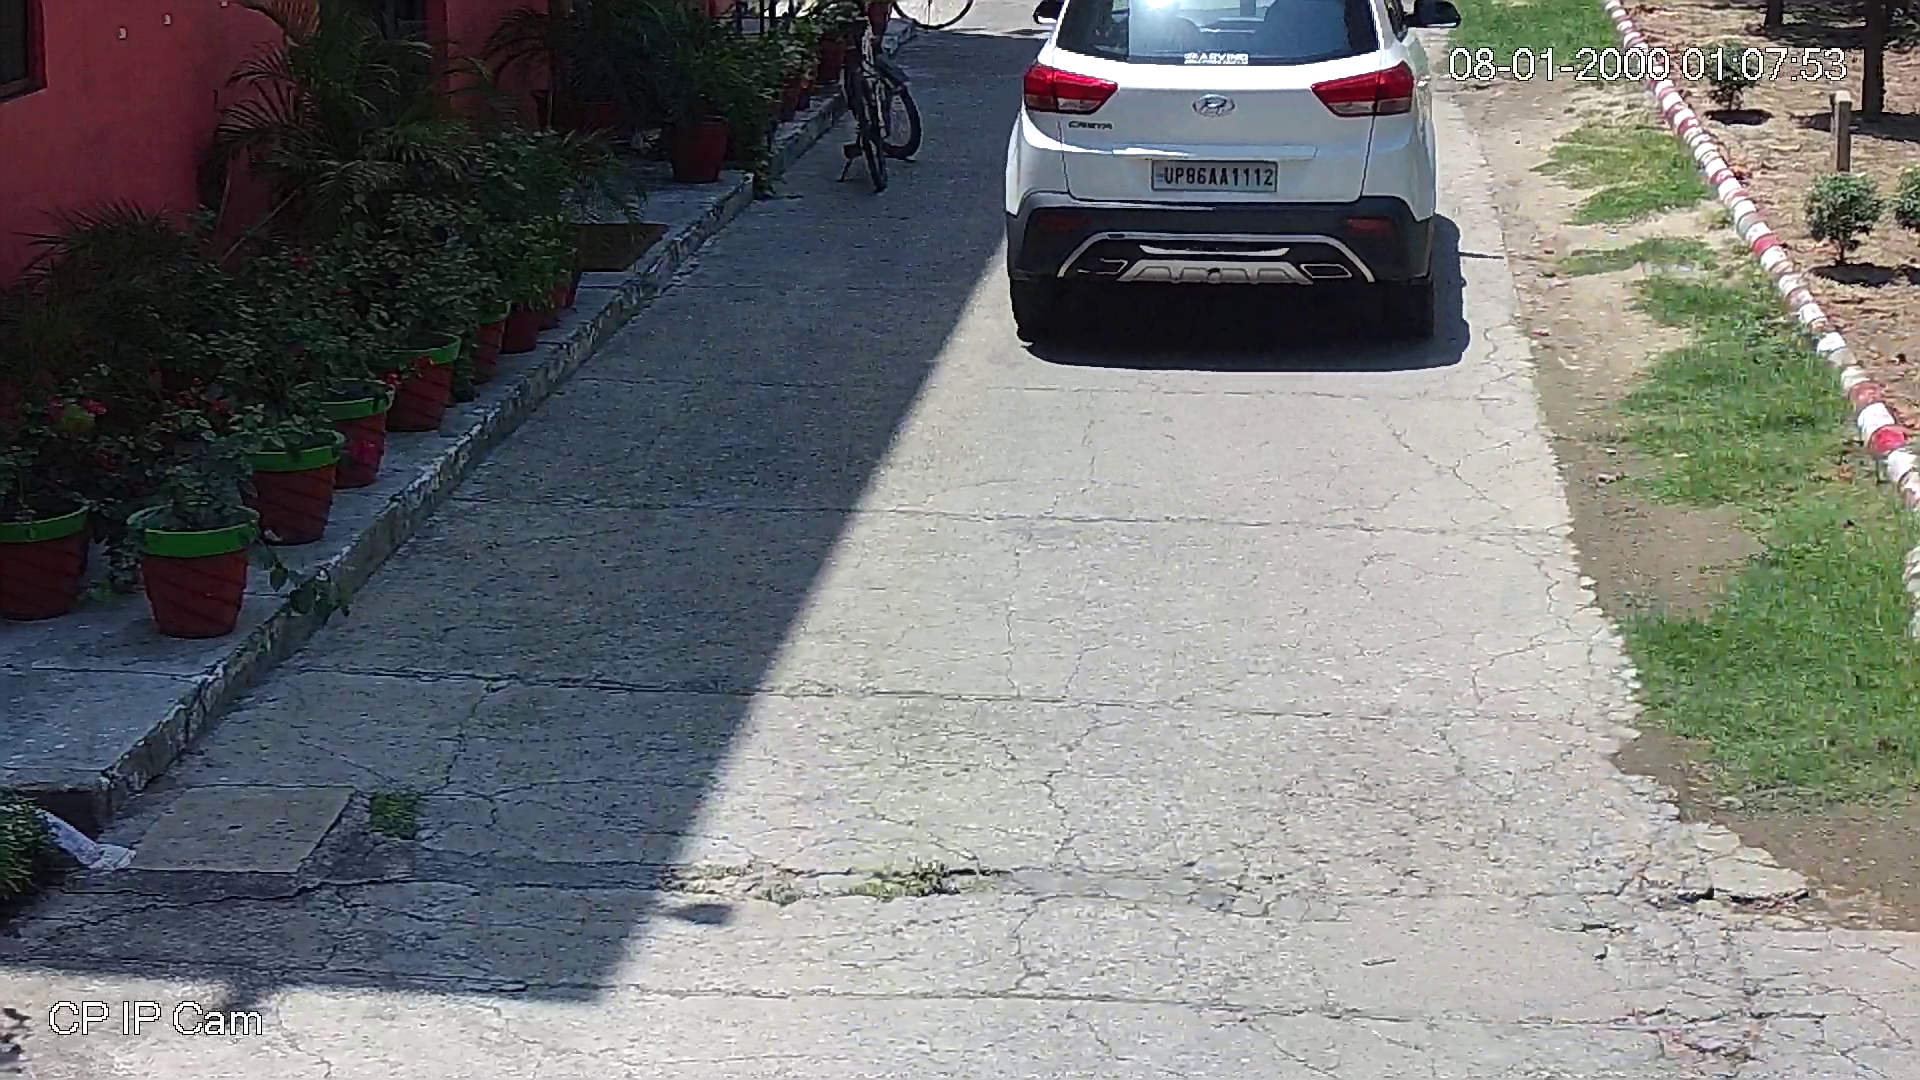plate: (1149, 153, 1286, 195)
